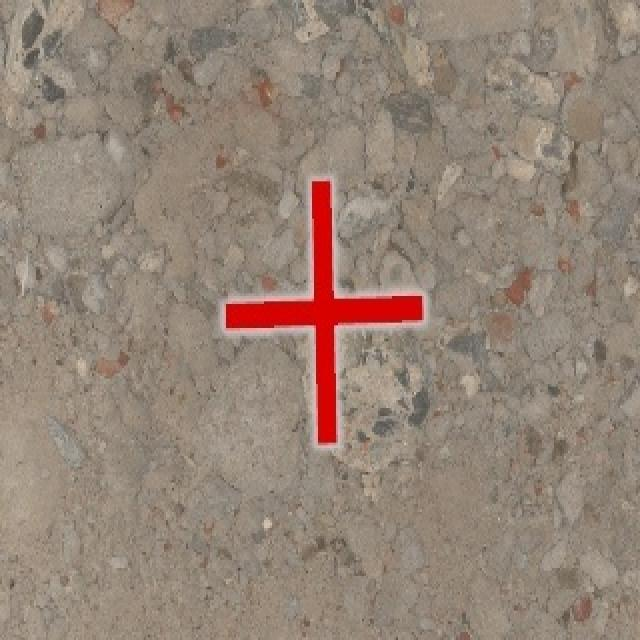x_marker: (223, 180, 423, 444)
